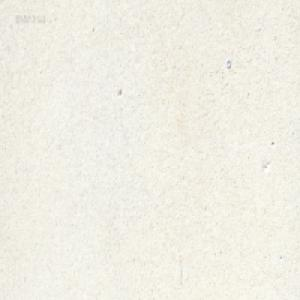Washer: (226, 59, 231, 70)
